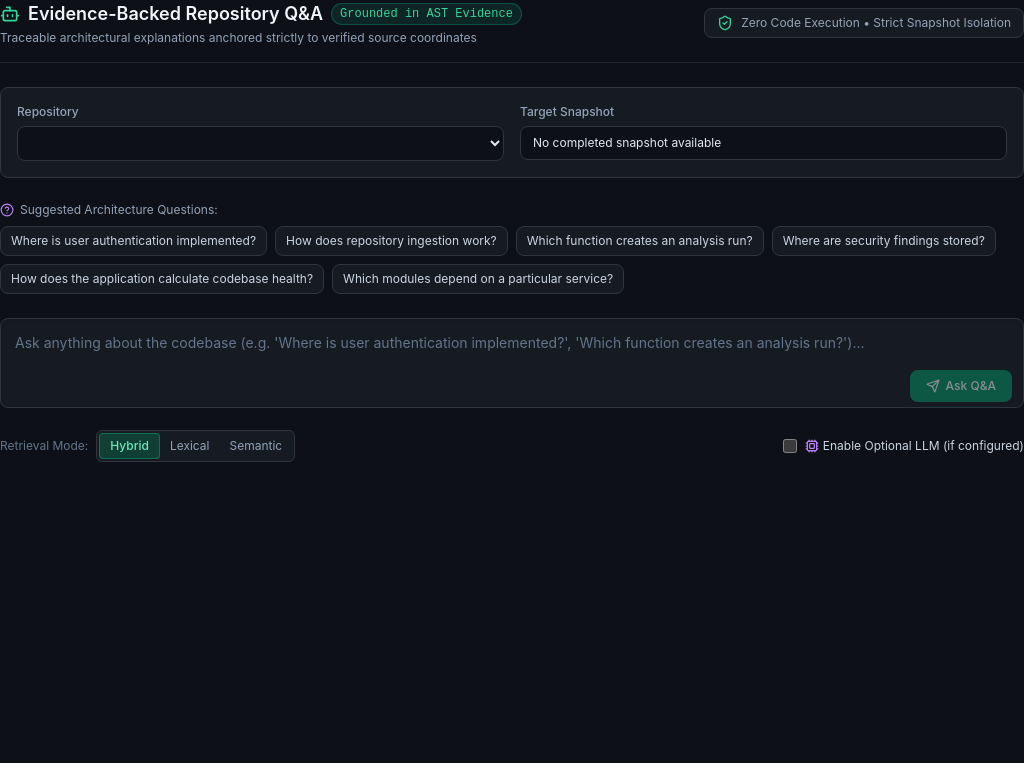
Test: AIAssistantPage Component › submits question and renders evidence-grounded answer with verified citations
The width and height of the screenshot is (1024, 763).
Replace the text in the text box with placeholder "Ask anything about the codebase" with "Where is user authentication implemented?" at [512, 363], box top-left (0, 318), bottom-right (1023, 408)
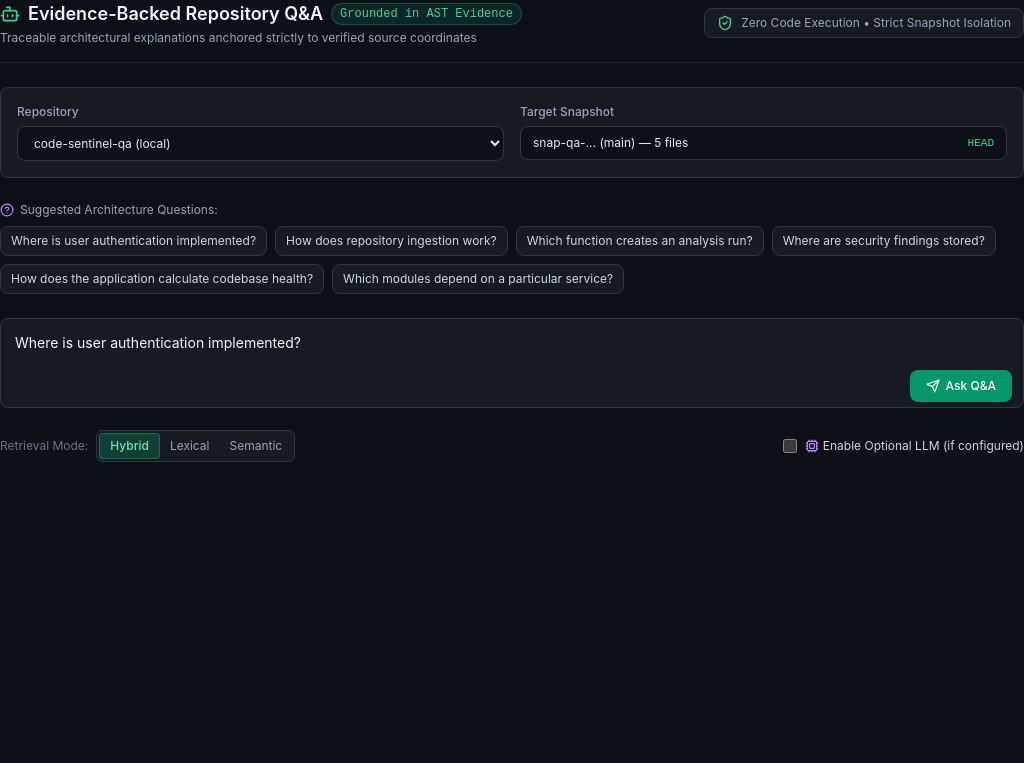
Click the button "Ask Q&A" at [961, 386], box top-left (910, 370), bottom-right (1012, 402)
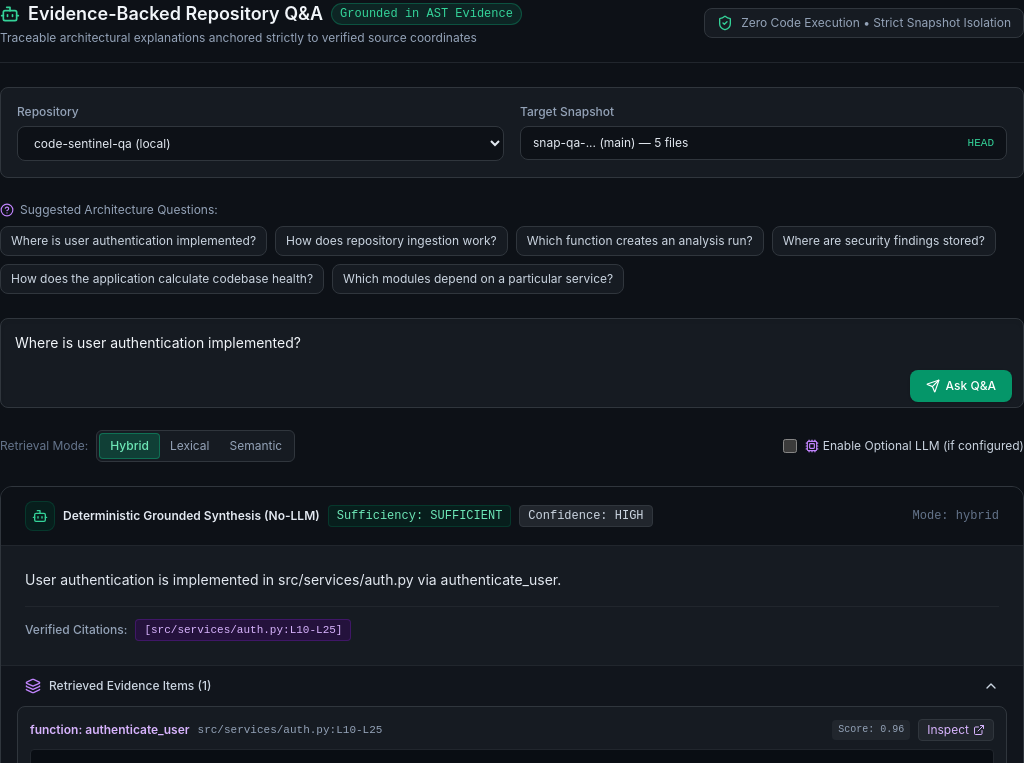
expect the text "Deterministic Grounded Synthesis (No-LLM)" is shown: met, box top-left (63, 508), bottom-right (320, 524)
expect the text "Sufficiency: SUFFICIENT" is shown: met, box top-left (328, 505), bottom-right (511, 527)
expect the text "Confidence: HIGH" is shown: met, box top-left (519, 505), bottom-right (652, 527)
